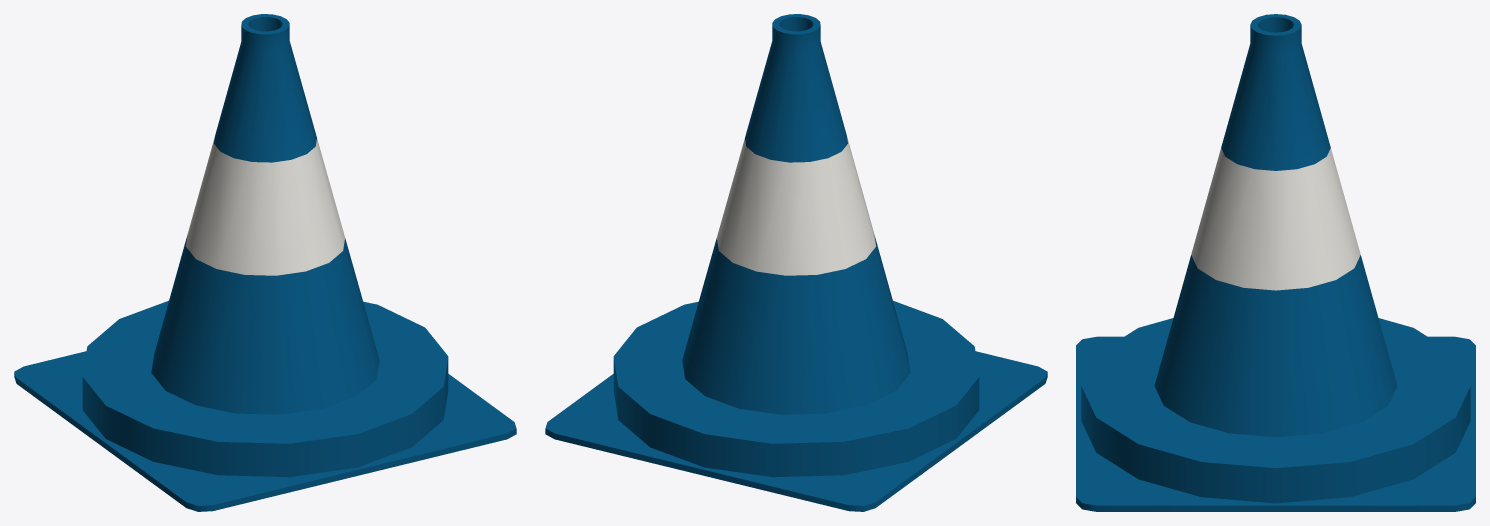
File: TrafficCone_Small_Blue.gltf
3 views of the same model, side by side, from view 1: azimuth 30°, elevation 25°; view 2: azimuth 150°, elevation 25°; view 3: azimuth 270°, elevation 25° (orthographic). The views are drawn at different scales.
Visible parts, largest first — view 1: TrafficCone_Small_Blue; view 2: TrafficCone_Small_Blue; view 3: TrafficCone_Small_Blue.
Boxes of the visible parts, x1=… form: TrafficCone_Small_Blue: x1=14, y1=14, x2=516, y2=511; TrafficCone_Small_Blue: x1=545, y1=14, x2=1047, y2=511; TrafficCone_Small_Blue: x1=1076, y1=14, x2=1475, y2=511.
Size of the model in its own units: 0.288 by 0.32 by 0.288.
